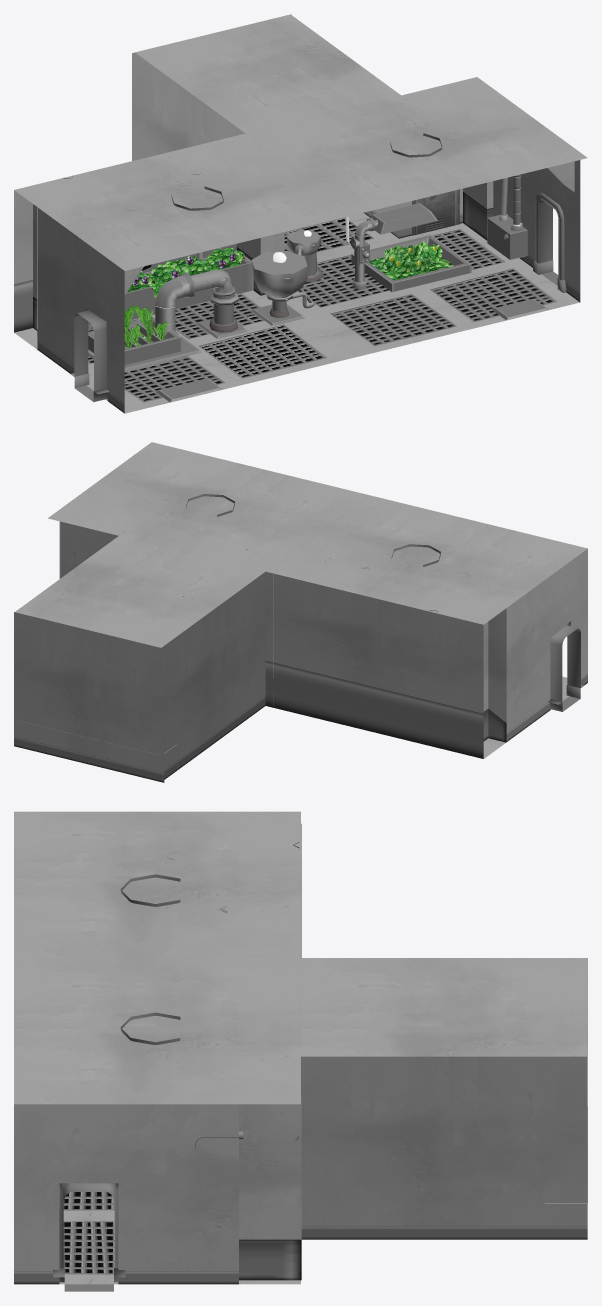
Rendered from MSH_Hydroponic_farm_room_L2_R2_optimized.fbx.
3 renders of one model, top to bottom at view 1: azimuth 30°, elevation 25°; view 2: azimuth 150°, elevation 25°; view 3: azimuth 270°, elevation 25°, orthographic. The views are drawn at different scales.
Visible parts, largest first — view 1: lightmap1, lightmap0, lightmap-1; view 2: lightmap1, lightmap0, lightmap-1; view 3: lightmap1, lightmap0, lightmap-1.
Boxes of the visible parts, bbox=[...] form: lightmap1: bbox=[14, 14, 587, 413]; lightmap0: bbox=[33, 87, 574, 402]; lightmap-1: bbox=[74, 200, 558, 402]; lightmap1: bbox=[14, 442, 587, 782]; lightmap0: bbox=[22, 494, 506, 770]; lightmap-1: bbox=[550, 625, 580, 711]; lightmap1: bbox=[14, 811, 587, 1284]; lightmap0: bbox=[120, 823, 587, 1280]; lightmap-1: bbox=[63, 1183, 114, 1291].
Bounding box in the file's own units: 20.61 × 6.03 × 16.51.
